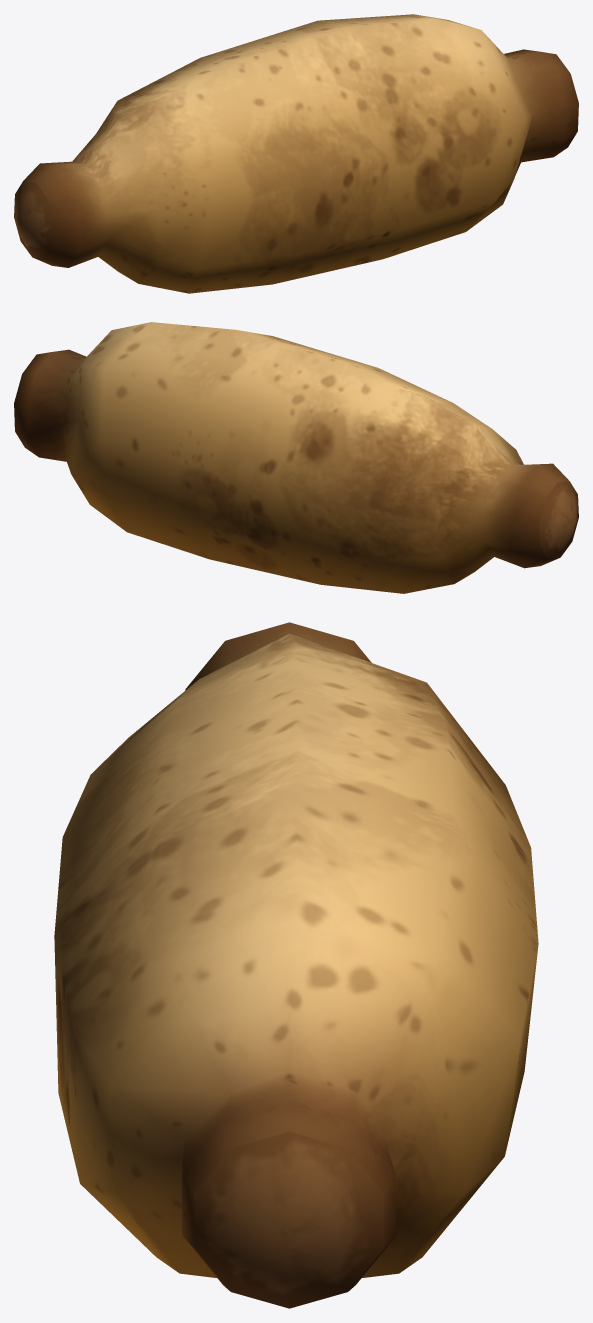
File: Lotus_Root.fbx
3 views of the same model, one above another, from view 1: azimuth 30°, elevation 25°; view 2: azimuth 150°, elevation 25°; view 3: azimuth 270°, elevation 25° (orthographic). The views are drawn at different scales.
Visible parts, largest first — view 1: Lotus_Root; view 2: Lotus_Root; view 3: Lotus_Root.
Part boxes in pixels (<box>): Lotus_Root: <box>14,14,578,293</box>; Lotus_Root: <box>14,322,578,593</box>; Lotus_Root: <box>54,622,538,1308</box>.
Bounding box in the file's own units: 102 × 37.76 × 38.67.
